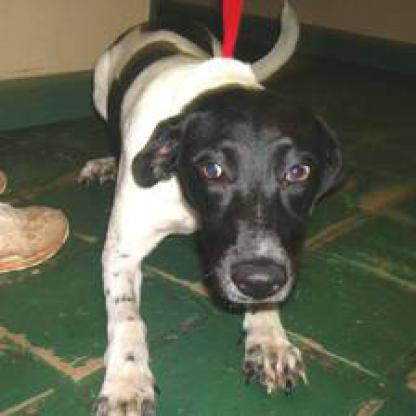dog: (57, 21, 342, 341)
